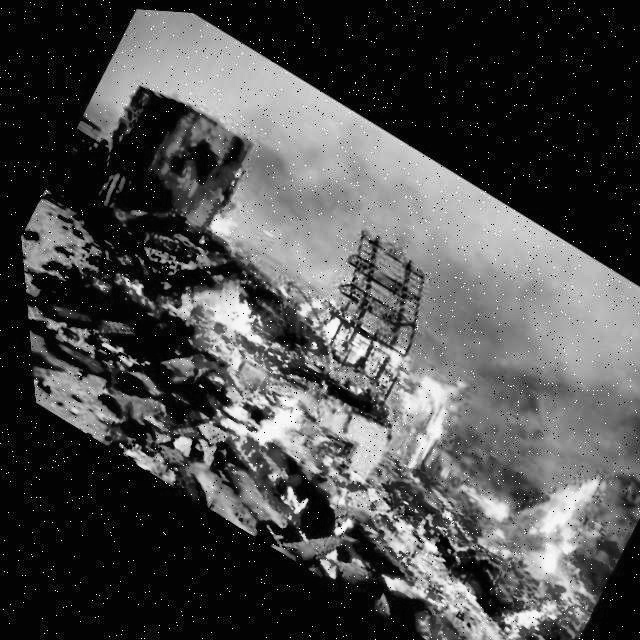Fire: (131, 259, 364, 482), (274, 274, 502, 495), (450, 405, 620, 575), (202, 431, 311, 524), (470, 560, 565, 640), (357, 550, 441, 624), (293, 462, 367, 538), (184, 186, 251, 250)
Smoke: (438, 200, 640, 483)
